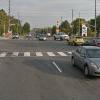Car: (67, 35, 100, 83)
